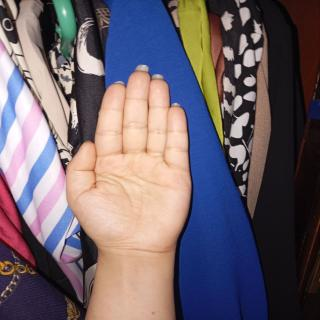SEEN: (64, 58, 200, 266)
